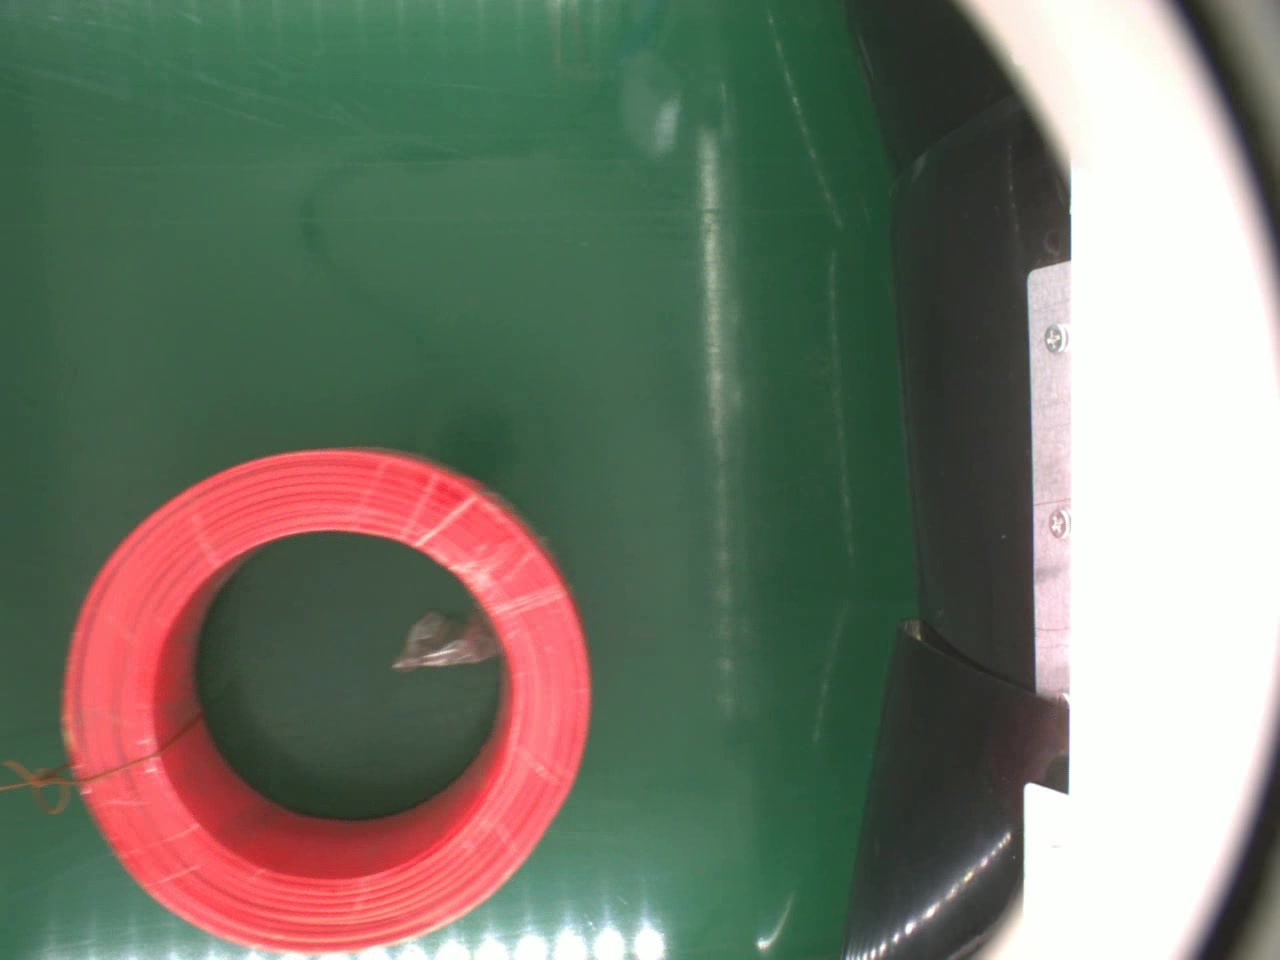red: (57, 444, 597, 955)
